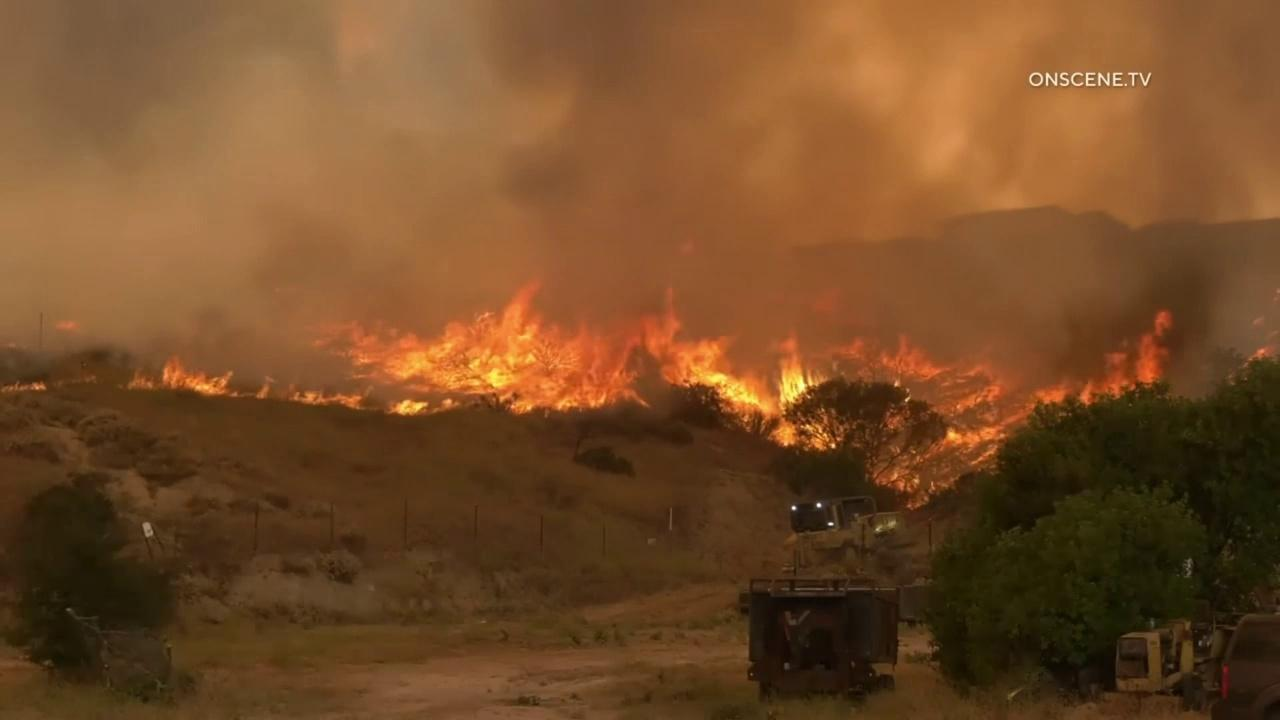fire: (286, 273, 867, 452), (868, 310, 1175, 511), (116, 353, 240, 398), (1243, 342, 1280, 362), (255, 374, 276, 400), (0, 380, 48, 391), (51, 318, 80, 330), (1251, 316, 1265, 326)
smoke: (0, 0, 1280, 402)
